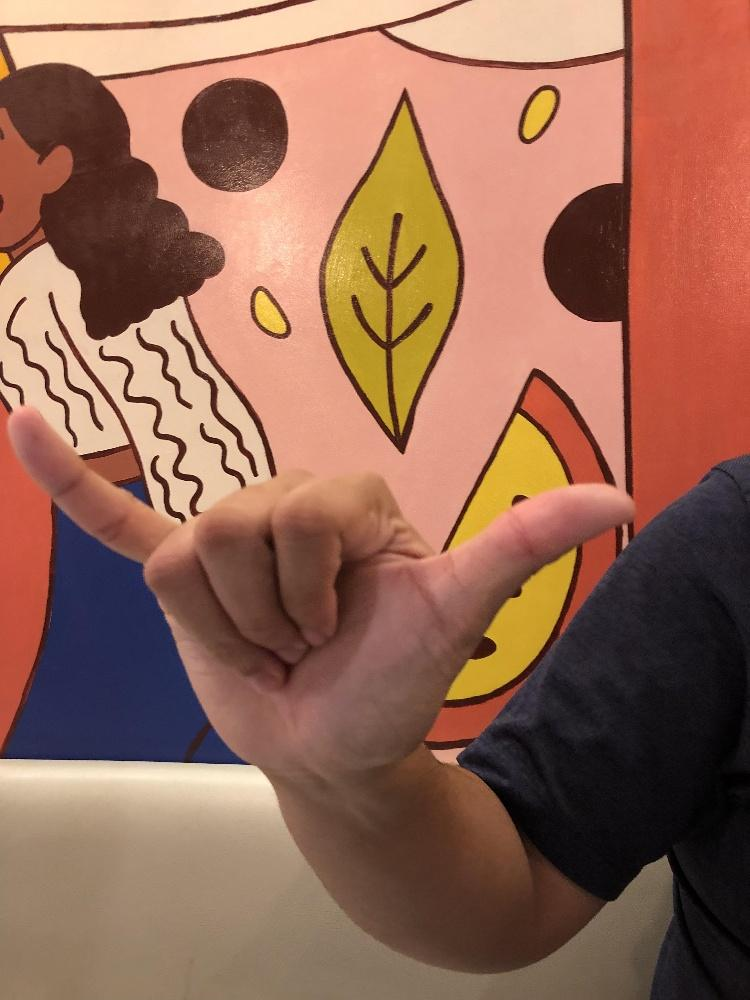y: (4, 401, 639, 776)
